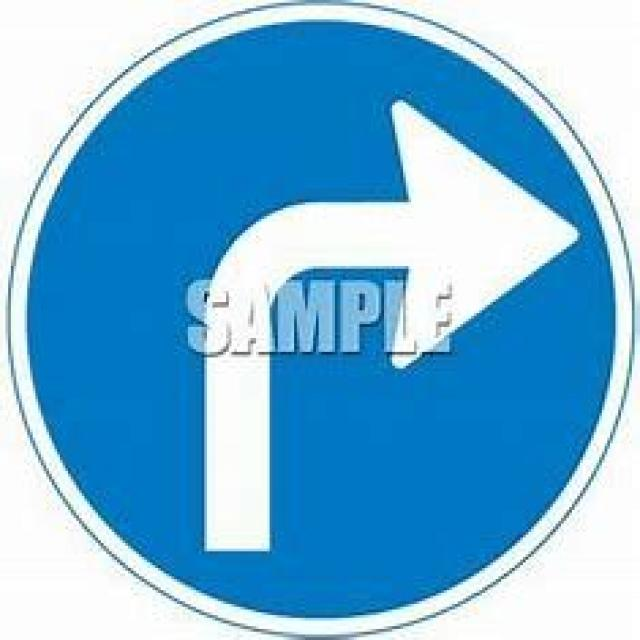COMPULSARY_TURN_RIGHT_AHEAD: (6, 3, 634, 637)
